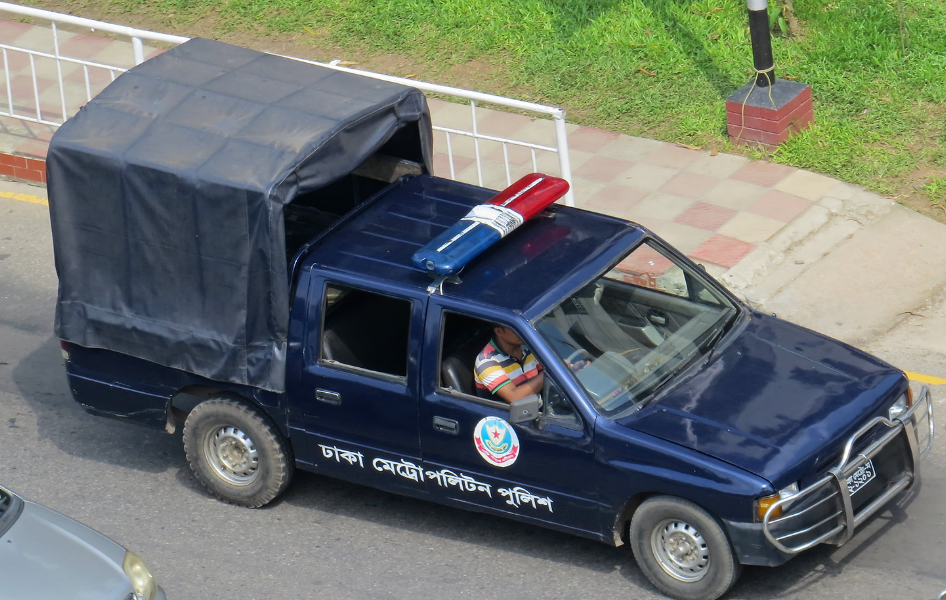Police cars: (43, 37, 940, 590)
private car: (3, 451, 172, 600)
